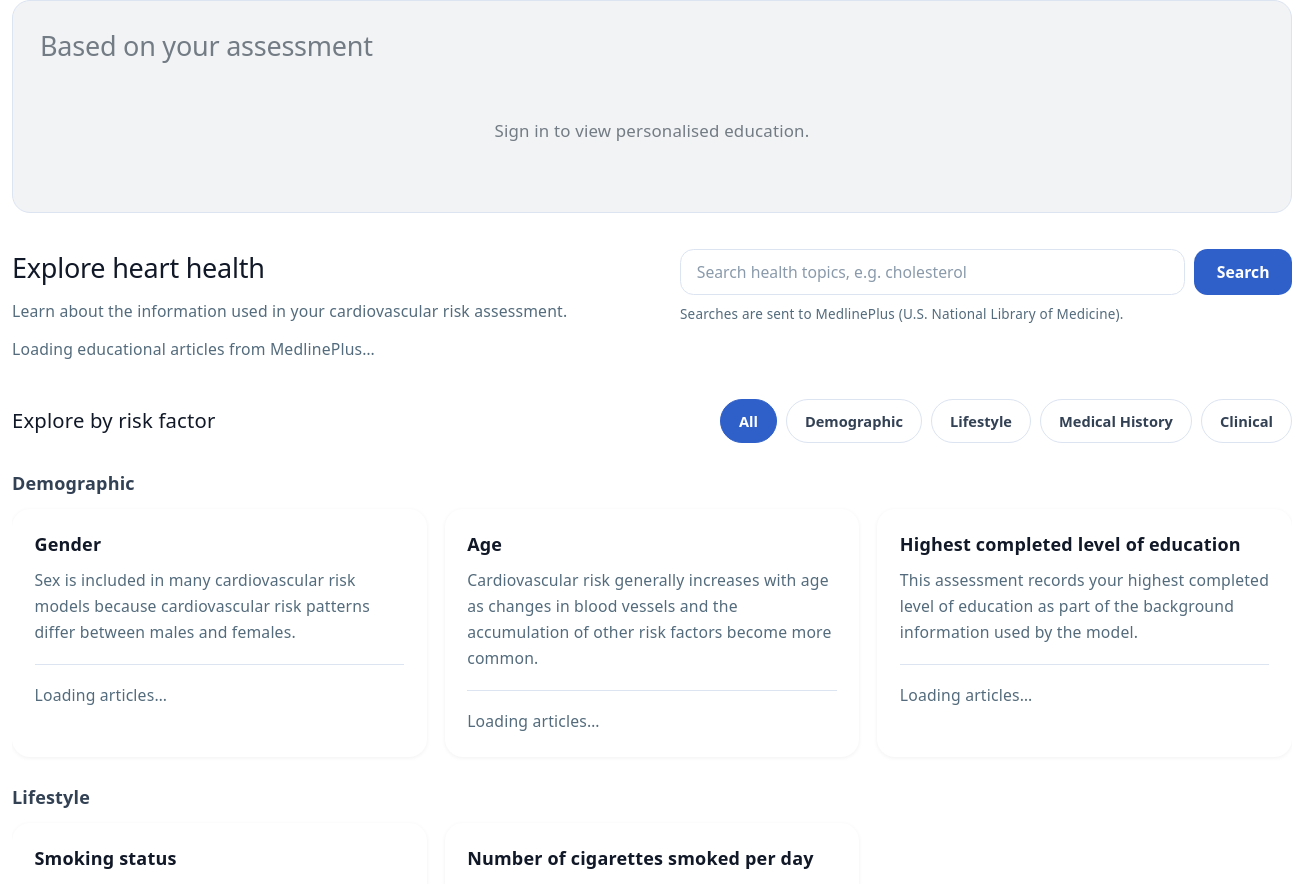
Test: search › searches only on submit and shows results without touching the topic cards
The image size is (1304, 884).
Type "cholesterol" into the search field named "Search MedlinePlus health topics" at point(933, 272), box [680, 249, 1185, 295]
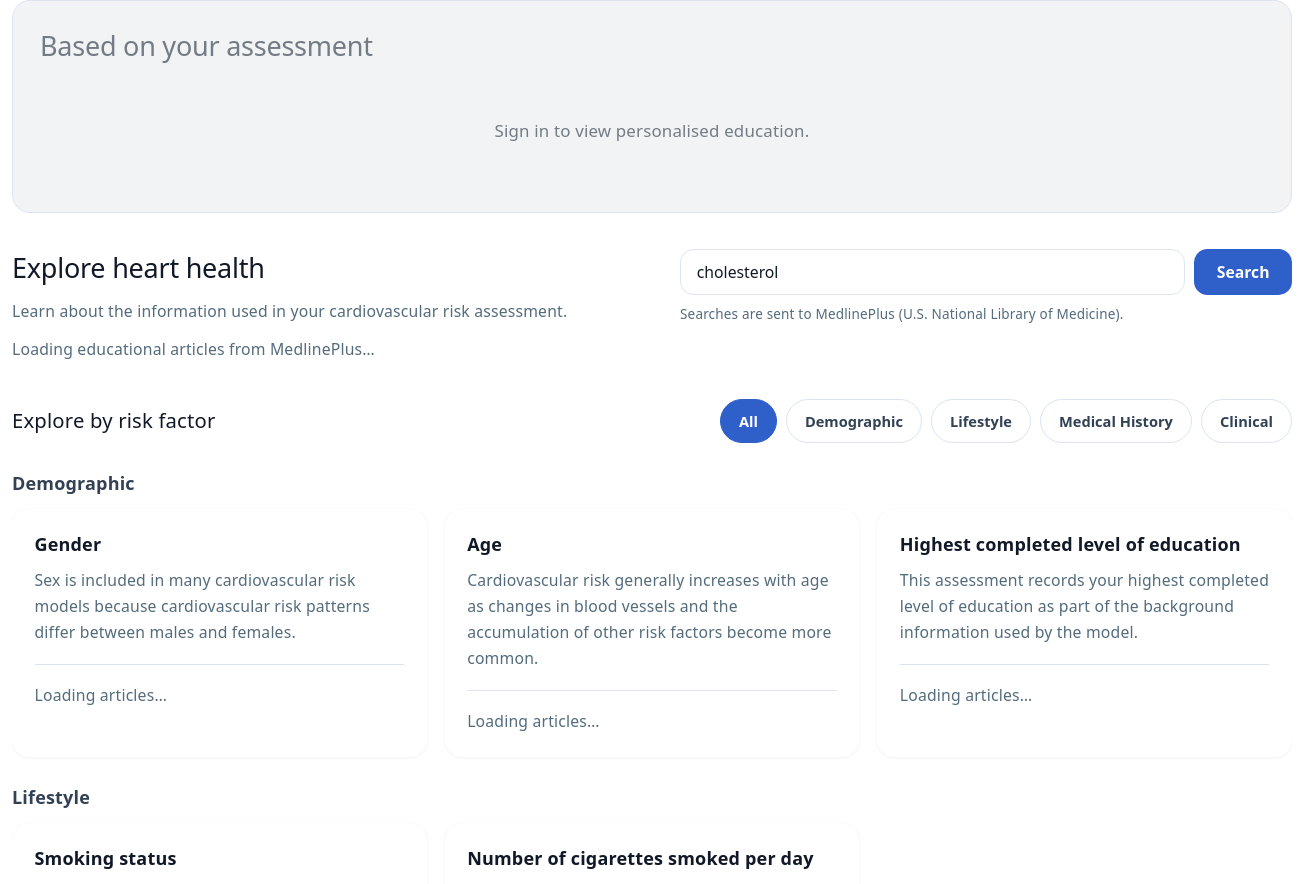
Click the button "Search" at point(1243, 272), box [1194, 249, 1292, 295]
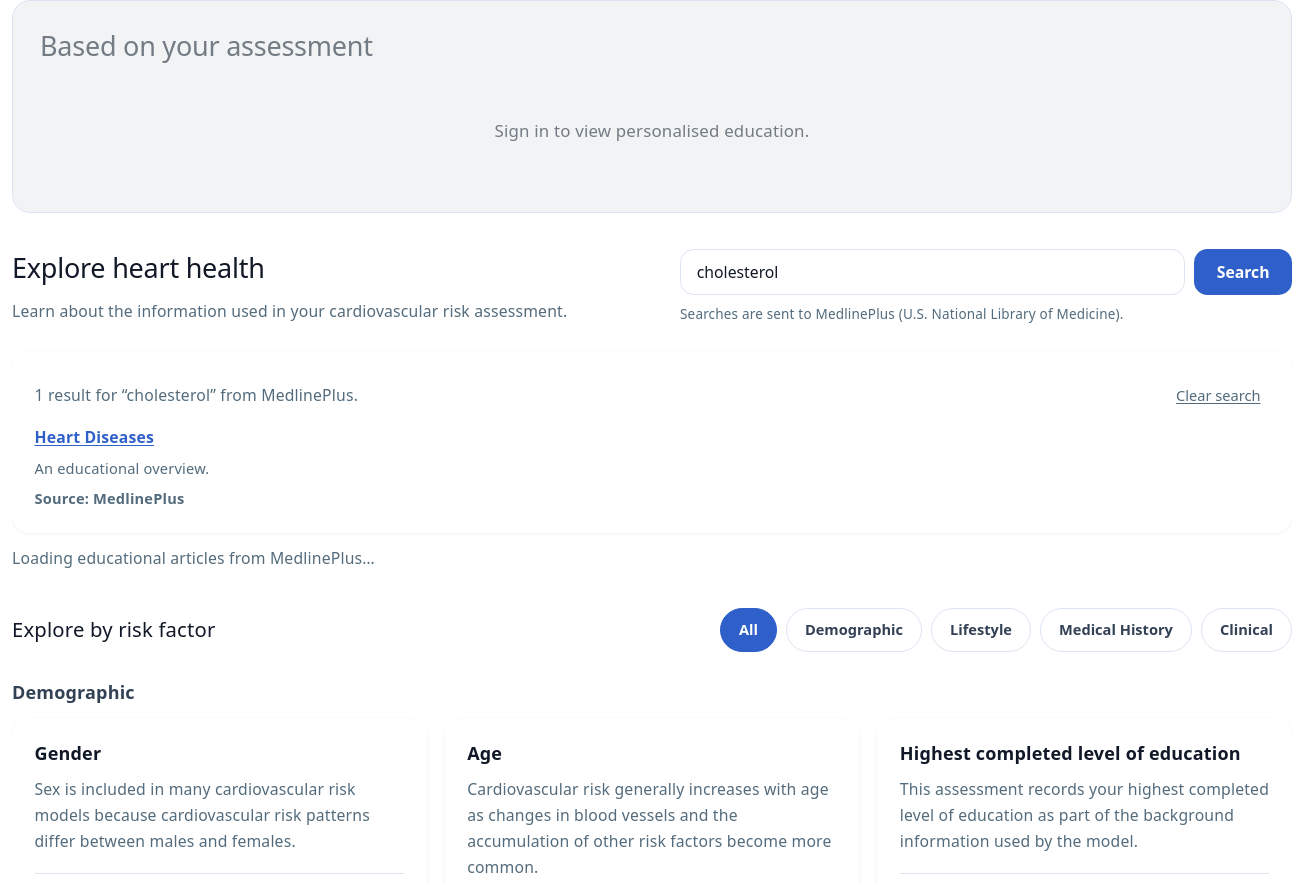
Expected: the message shows "Loading educational articles", [12, 547, 375, 569]
Expected: the text "1 result for “cholesterol” from MedlinePlus." is shown, [34, 384, 358, 406]
Click the button "Clear search" at point(1218, 395), box [1167, 373, 1270, 417]
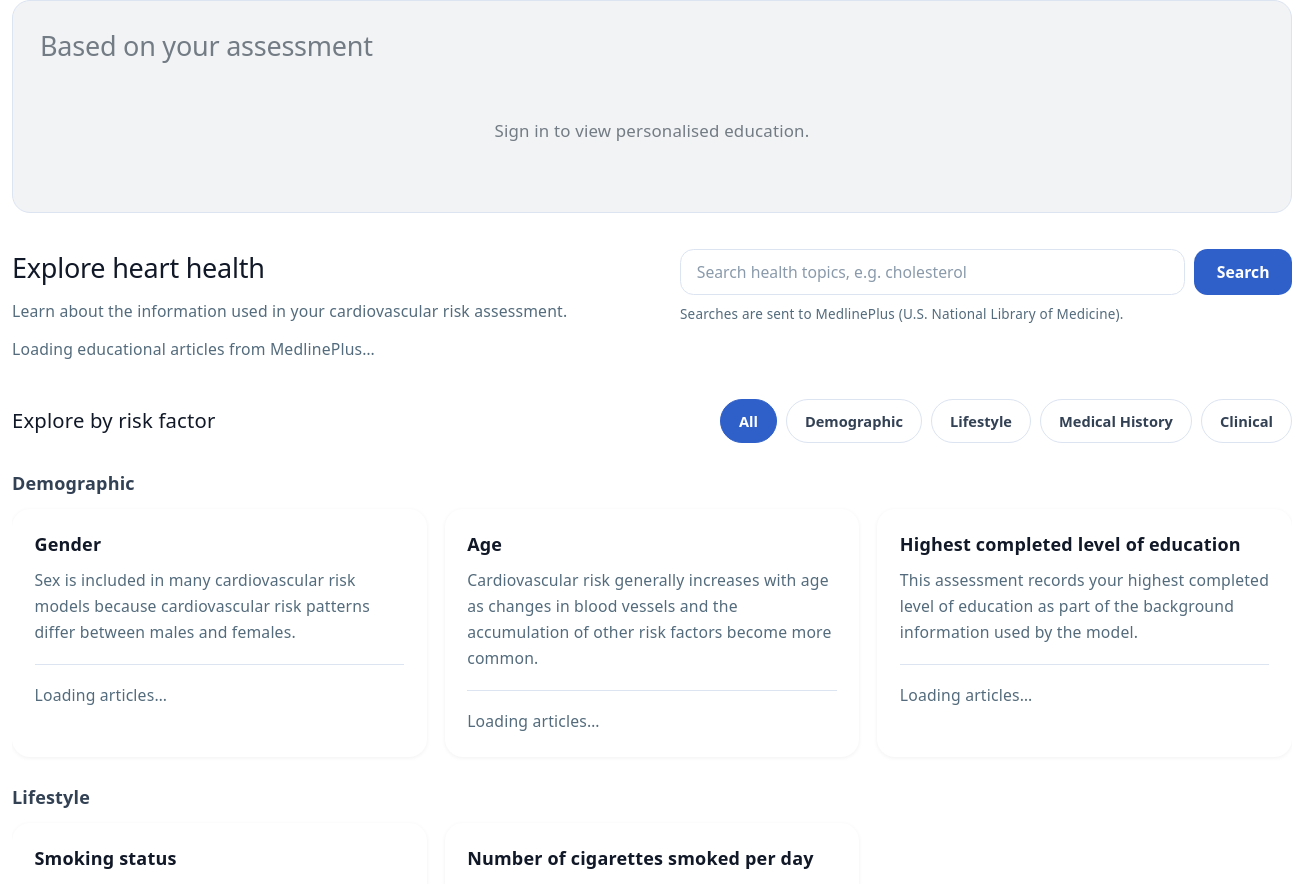
Expected: the search field named "Search MedlinePlus health topics" is empty, [680, 249, 1185, 295]
